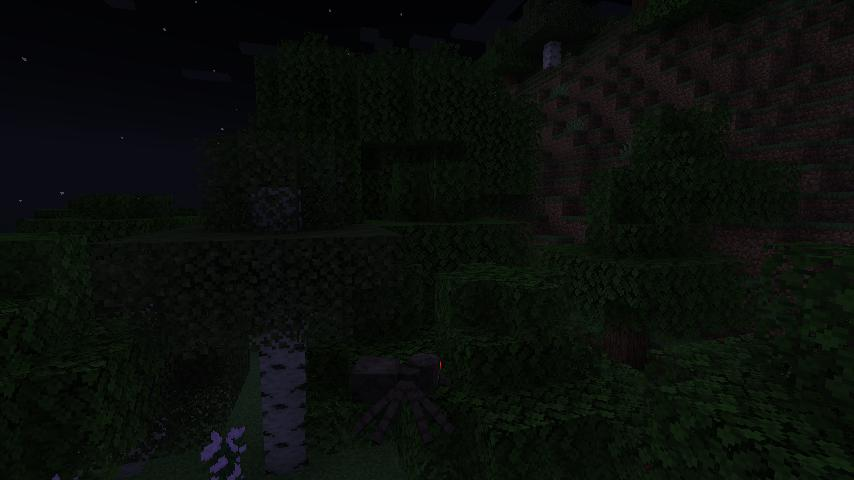spider: (341, 350, 456, 446)
